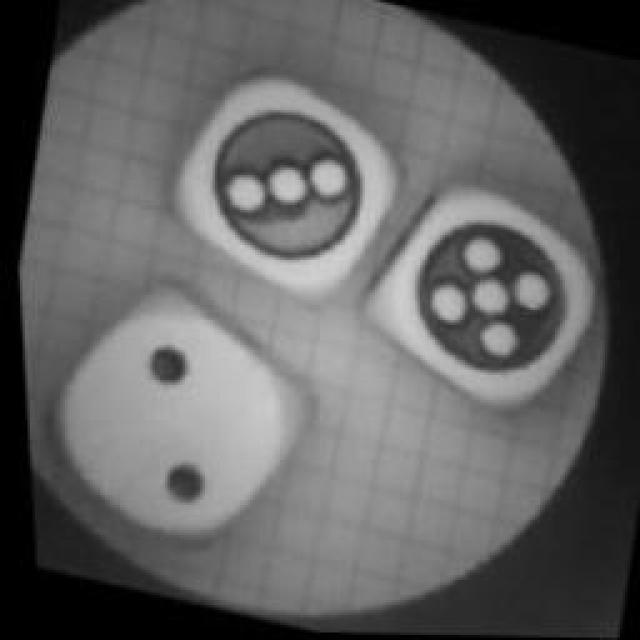dice_2: (24, 274, 331, 574)
dice_5: (145, 47, 423, 315), (361, 180, 611, 420)
